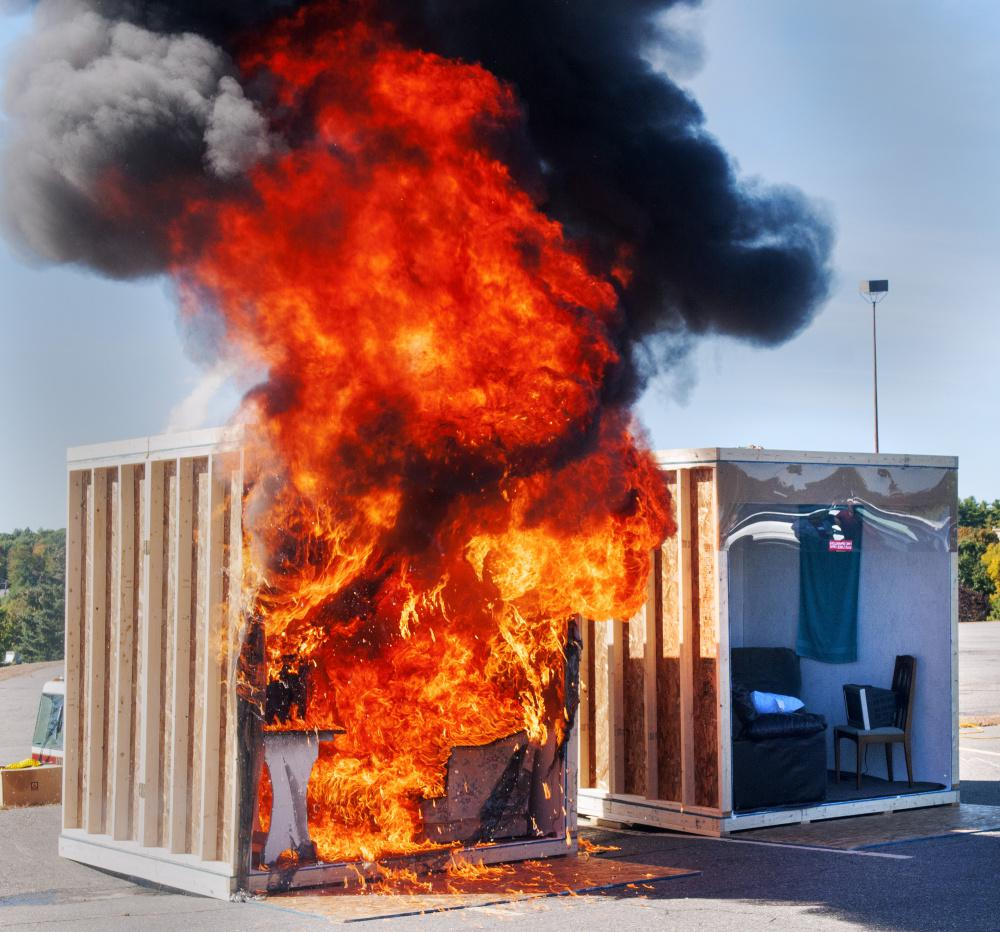fire: (167, 47, 673, 892)
